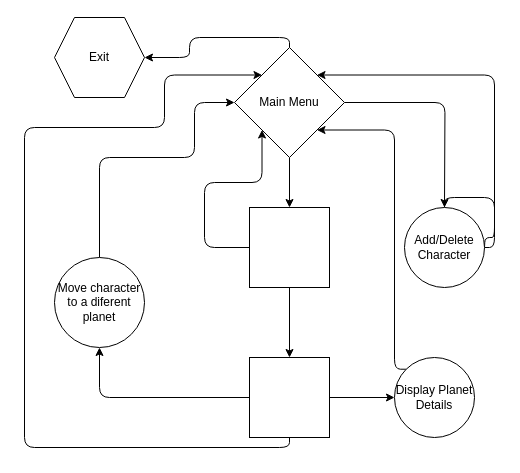
Some shapes in this 520 by 473 pixel diagram are drawn without their labels. Each missing label, with the box of its shape:
Display All Characters: (248, 206, 330, 288)
Display character detail and Planet Location: (248, 356, 330, 438)
